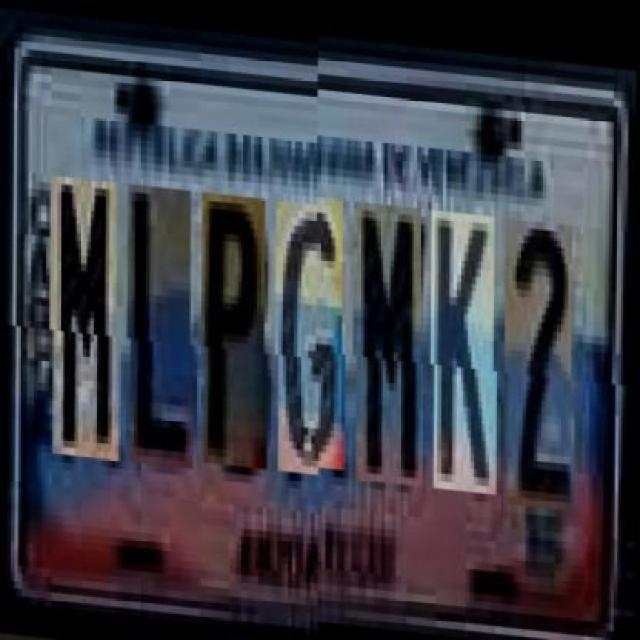2: (509, 214, 576, 506)
g: (279, 195, 346, 470)
k: (434, 208, 498, 490)
l: (130, 182, 195, 464)
m: (53, 175, 121, 458), (356, 202, 424, 484)
p: (204, 187, 268, 464)
